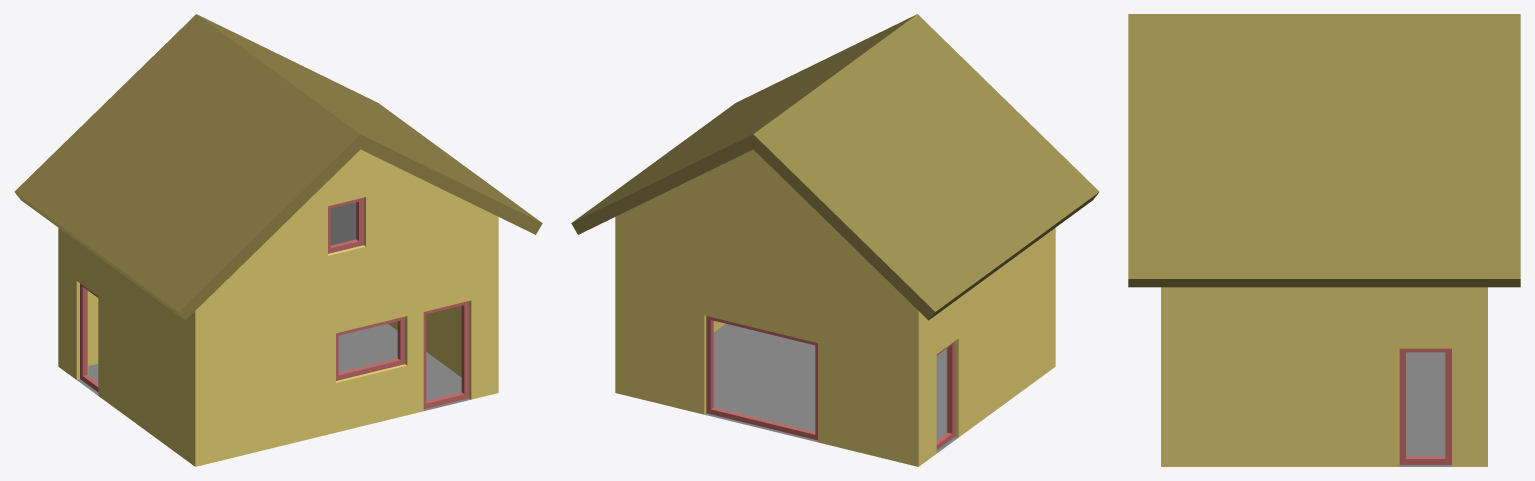
Rendered from result.glb.
3 views of the same model, side by side, from view 1: azimuth 30°, elevation 25°; view 2: azimuth 150°, elevation 25°; view 3: azimuth 270°, elevation 25° (orthographic). The views are drawn at different scales.
Visible parts, largest first — view 1: 74730918-141c-4004-93eb-b494f1403911__undefined, b4929baf-8d43-4f39-b947-264f0d189171__undefined (×2), 652cf45d-861e-464a-92ef-ef283a37cc42__Plane_8, d9601e71-d76e-4f05-97de-6ce946961240__Box, defae2d4-7495-4774-834f-9351b9a4c62c__Box_3, 90953133-0446-47b7-842f-d12748d179b4__Box_24, 33783e2c-bdd6-4f3f-83bf-70e93ec7a457__Box_12, 3d24fcb9-b169-434a-9bd5-012516c4915e__Box_6; view 2: 74730918-141c-4004-93eb-b494f1403911__undefined, b4929baf-8d43-4f39-b947-264f0d189171__undefined (×2), 652cf45d-861e-464a-92ef-ef283a37cc42__Plane_8, a9d1e33d-1fea-4555-b4f5-b269a2455703__Box_9, 33783e2c-bdd6-4f3f-83bf-70e93ec7a457__Box_12; view 3: b4929baf-8d43-4f39-b947-264f0d189171__undefined, 74730918-141c-4004-93eb-b494f1403911__undefined, 652cf45d-861e-464a-92ef-ef283a37cc42__Plane_8, e99e92f4-cac7-4ec6-aad7-099d7acfb78f__Box_18.
Part boxes in pixels (x1,y1,x2,y2): 74730918-141c-4004-93eb-b494f1403911__undefined: (58, 149, 498, 466); b4929baf-8d43-4f39-b947-264f0d189171__undefined (×2): (14, 14, 542, 320); 652cf45d-861e-464a-92ef-ef283a37cc42__Plane_8: (77, 323, 470, 410); d9601e71-d76e-4f05-97de-6ce946961240__Box: (423, 301, 469, 408); defae2d4-7495-4774-834f-9351b9a4c62c__Box_3: (336, 316, 404, 380); 90953133-0446-47b7-842f-d12748d179b4__Box_24: (330, 202, 356, 245); 33783e2c-bdd6-4f3f-83bf-70e93ec7a457__Box_12: (80, 283, 98, 391); 3d24fcb9-b169-434a-9bd5-012516c4915e__Box_6: (328, 197, 363, 253); 74730918-141c-4004-93eb-b494f1403911__undefined: (615, 149, 1055, 466); b4929baf-8d43-4f39-b947-264f0d189171__undefined (×2): (571, 14, 1099, 320); 652cf45d-861e-464a-92ef-ef283a37cc42__Plane_8: (704, 323, 957, 453); a9d1e33d-1fea-4555-b4f5-b269a2455703__Box_9: (706, 316, 817, 440); 33783e2c-bdd6-4f3f-83bf-70e93ec7a457__Box_12: (936, 341, 954, 449); b4929baf-8d43-4f39-b947-264f0d189171__undefined: (1128, 14, 1520, 287); 74730918-141c-4004-93eb-b494f1403911__undefined: (1161, 287, 1487, 466); 652cf45d-861e-464a-92ef-ef283a37cc42__Plane_8: (1399, 352, 1451, 466); e99e92f4-cac7-4ec6-aad7-099d7acfb78f__Box_18: (1399, 348, 1451, 464).
Bounding box in the file's own units: 768 × 616 × 600.
